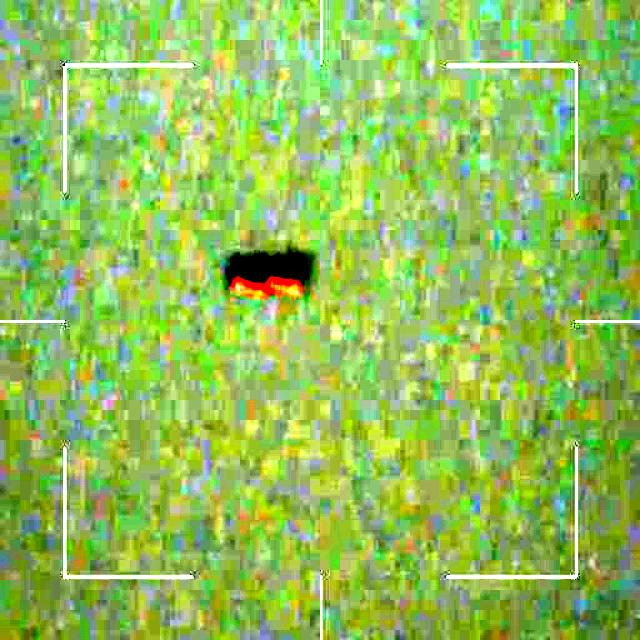bird: (226, 250, 312, 299)
